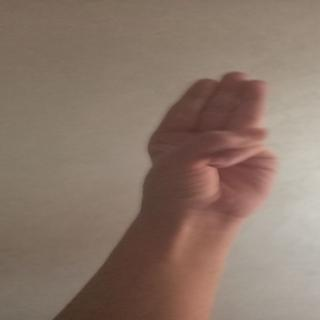THA: (100, 64, 309, 237)
